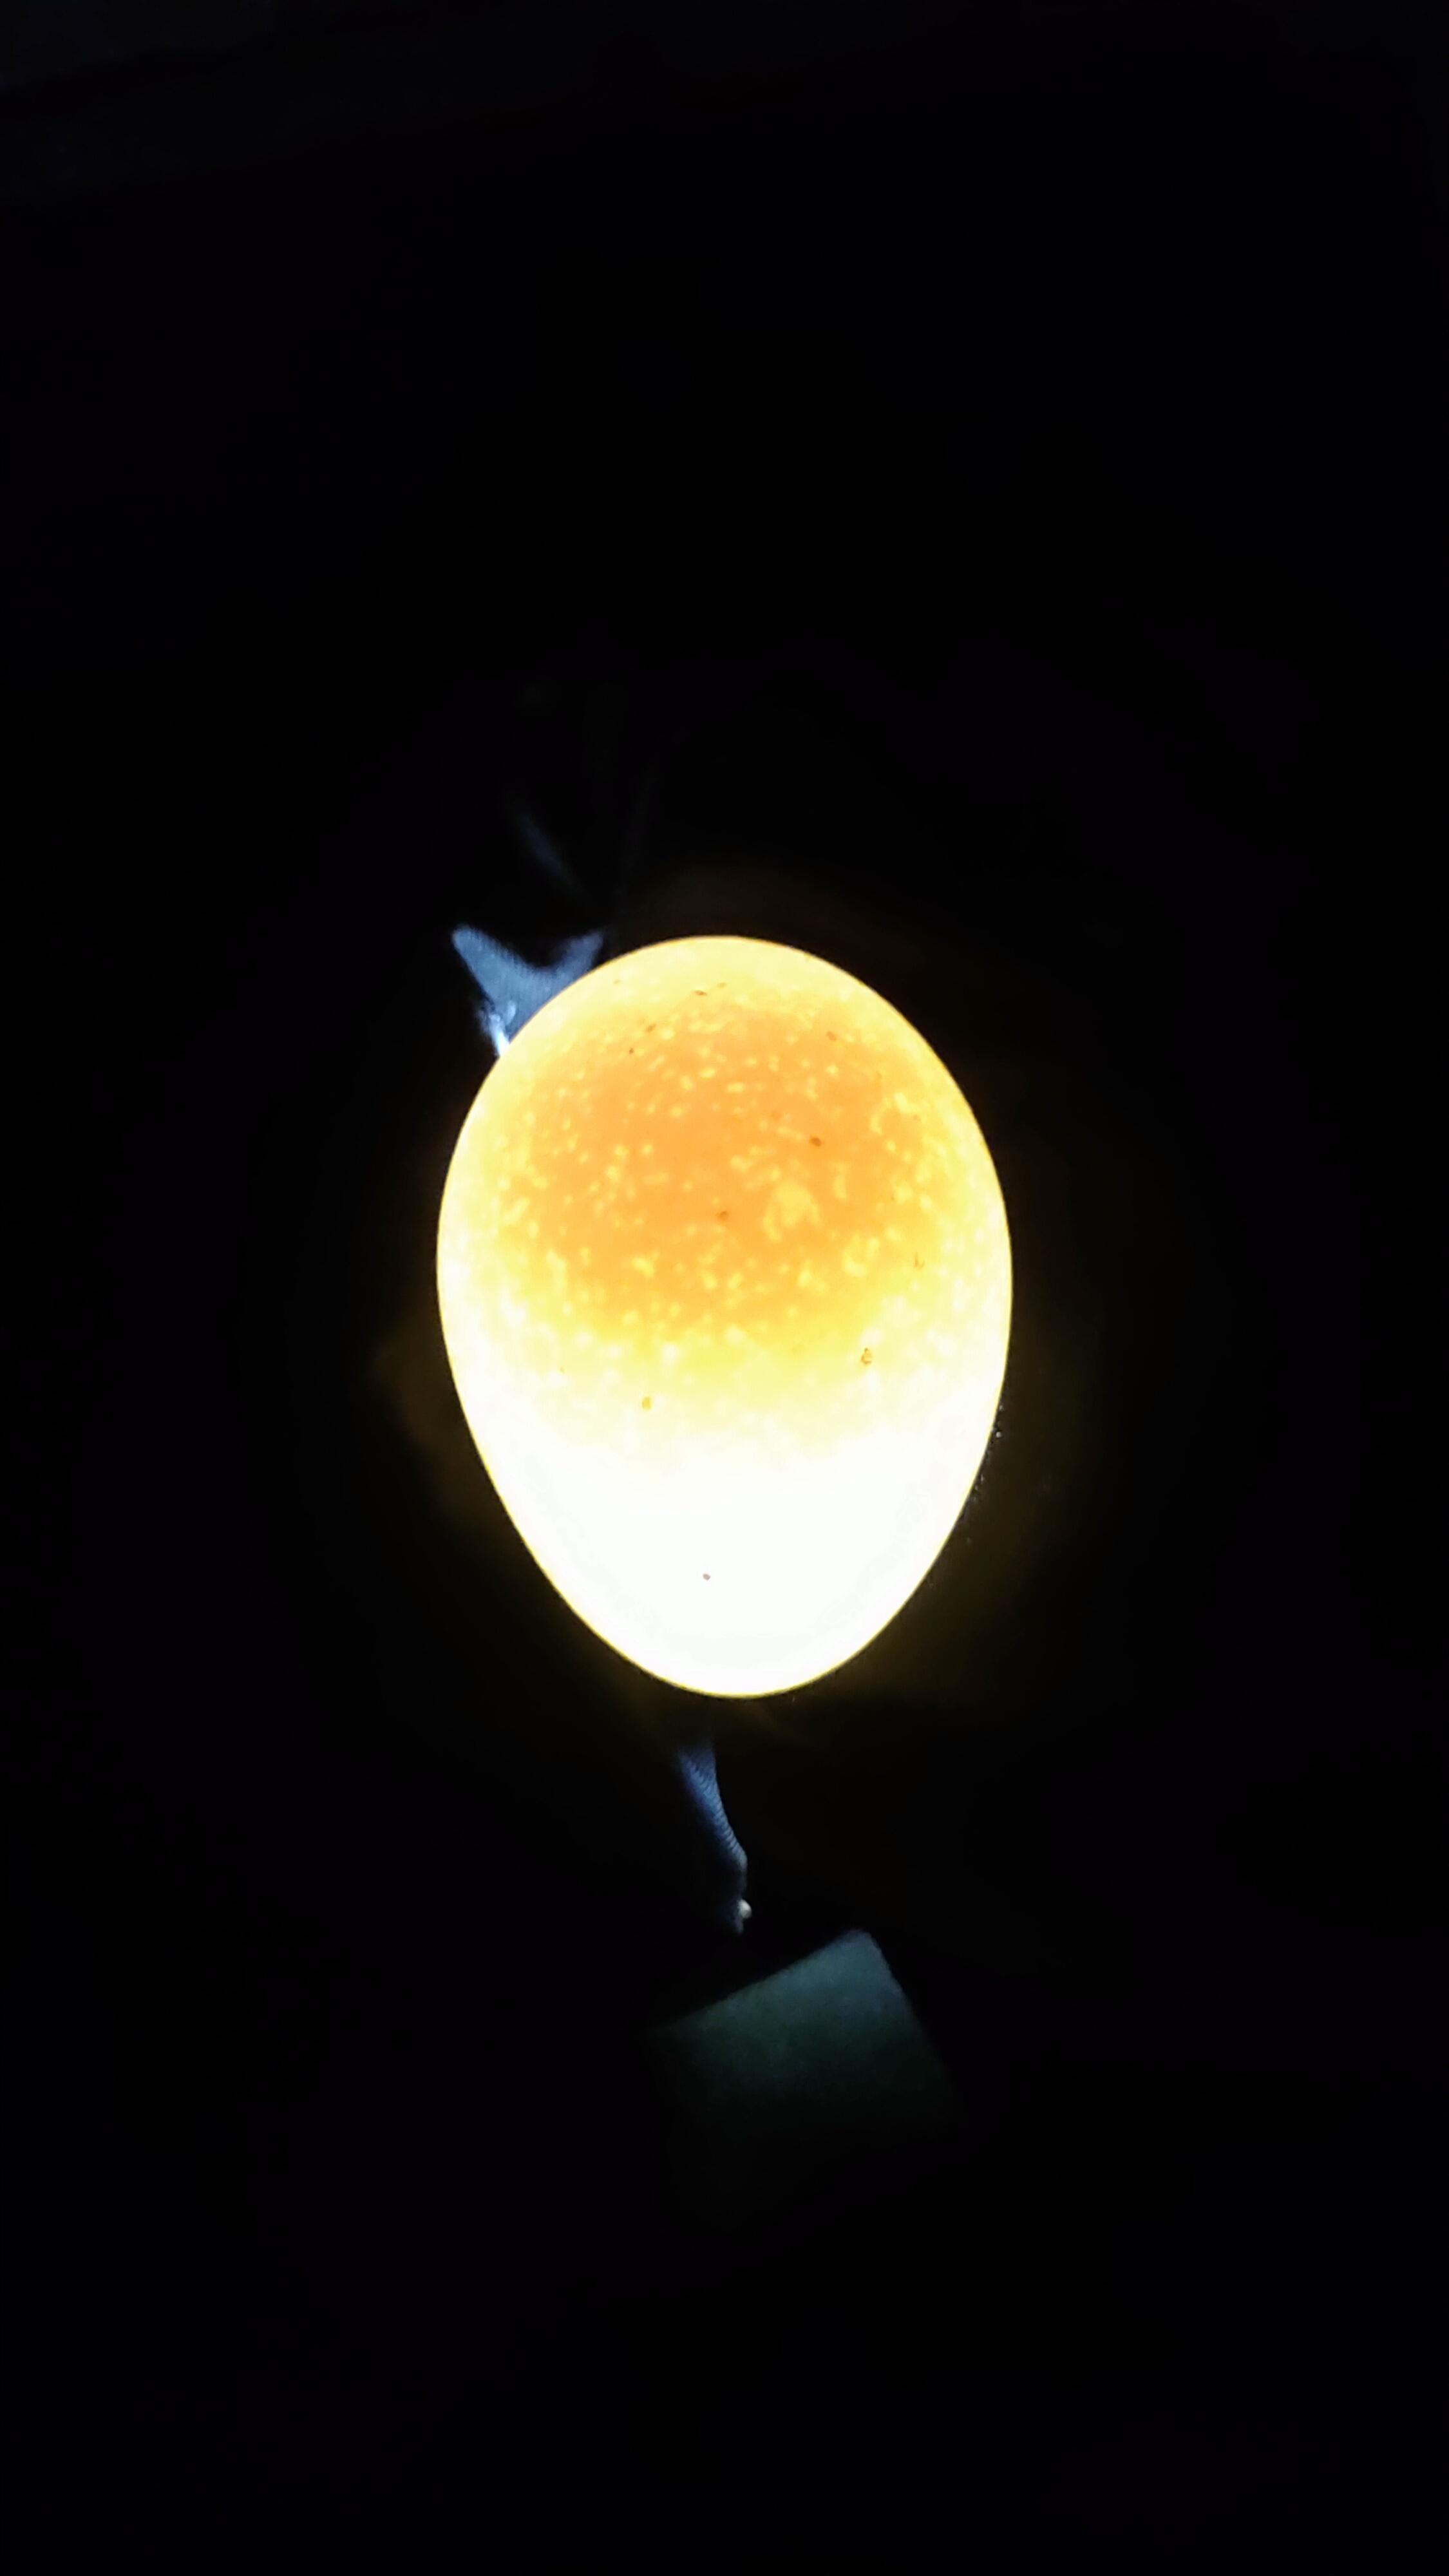Inedible: (425, 902, 1083, 1732)
